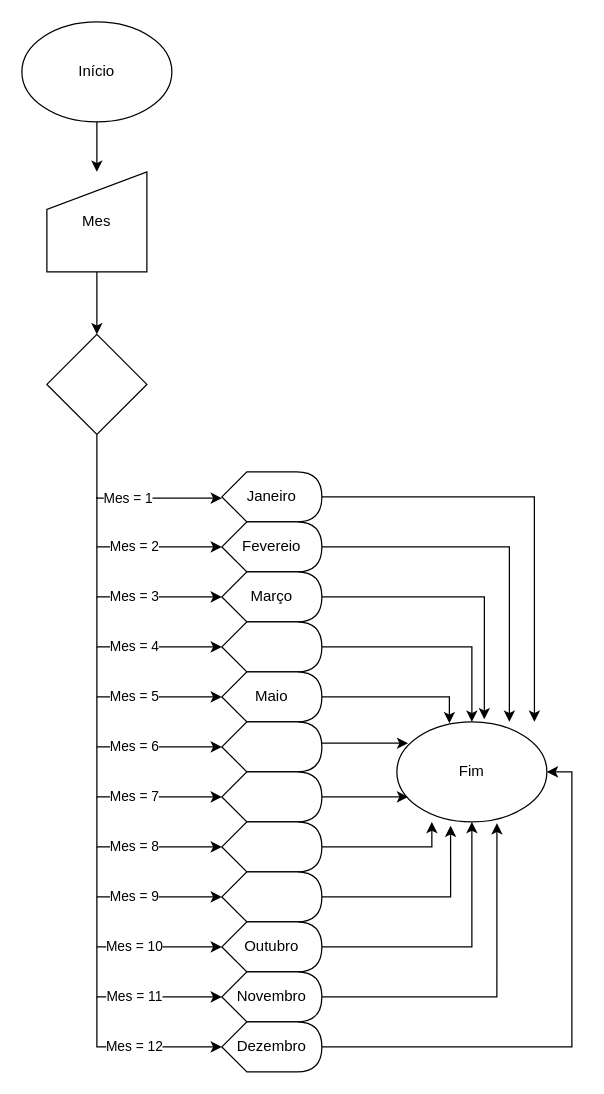
This 604x1094 diagram has some shape labels left out. The shapes that lost their labels are listed below. From the top down, each one's box as (x1, y1, x2, y2) in pixels, then its label:
(221, 621, 322, 672): Abril
(221, 721, 322, 772): Junho
(221, 771, 322, 822): Julho
(221, 821, 322, 872): Agosto
(221, 871, 322, 922): Setembro
